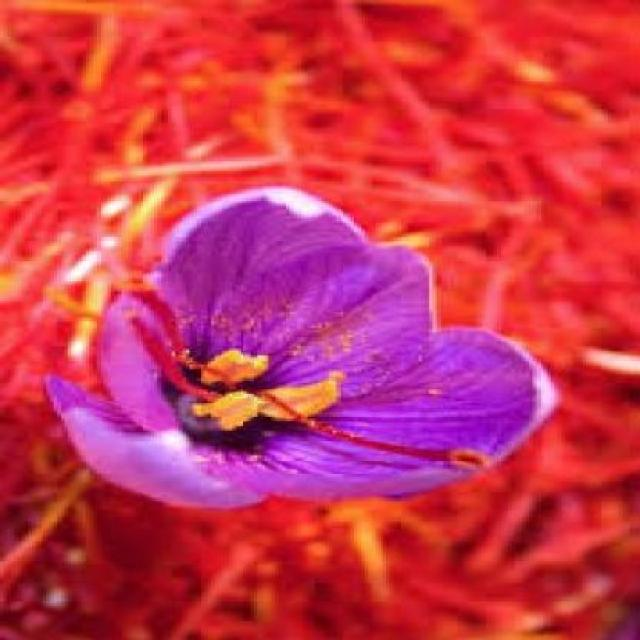Flower: (57, 187, 565, 513)
stigma: (292, 416, 500, 479), (123, 272, 203, 395)
